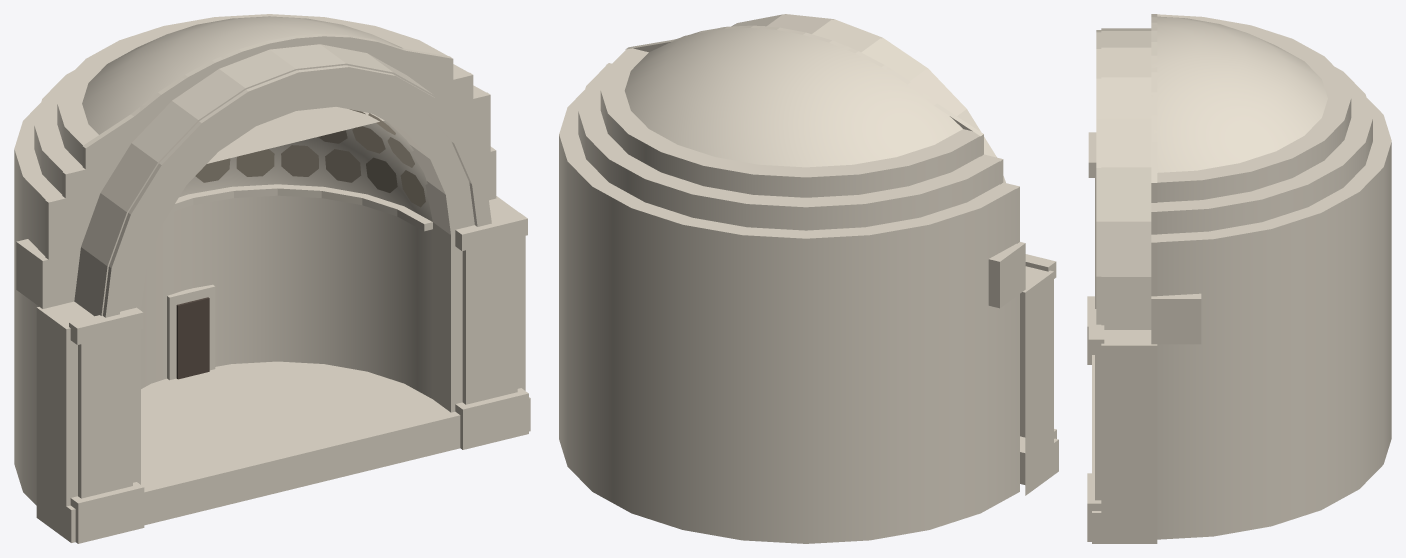
File: nyc-naumburg-bandshell.glb
3 renders of one model, left to right at view 1: azimuth 30°, elevation 25°; view 2: azimuth 150°, elevation 25°; view 3: azimuth 270°, elevation 25°, orthographic. The views are drawn at different scales.
Parts seen in each view (by area): view 1: Naumburg Bandshell; view 2: Naumburg Bandshell; view 3: Naumburg Bandshell.
Part boxes in pixels (x1,y1,x2,y2): Naumburg Bandshell: (14, 14, 530, 543); Naumburg Bandshell: (559, 14, 1058, 543); Naumburg Bandshell: (1087, 14, 1391, 543).
Size of the model in its own units: 16 by 14 by 9.75.
